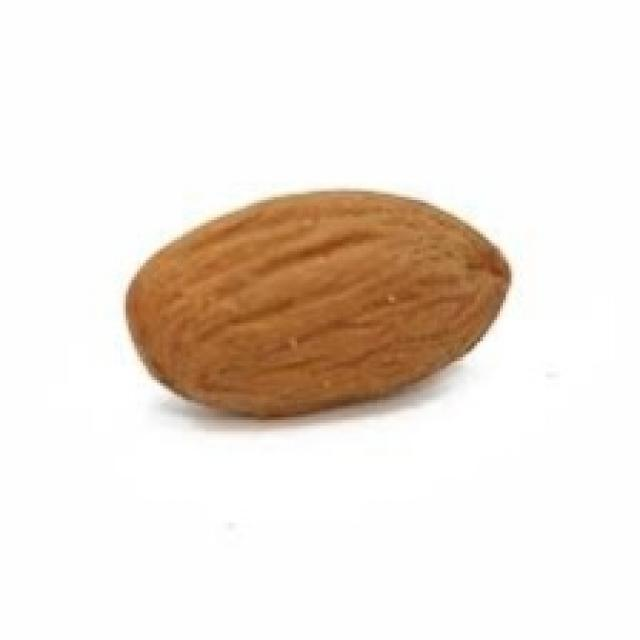almond: (123, 188, 512, 417)
